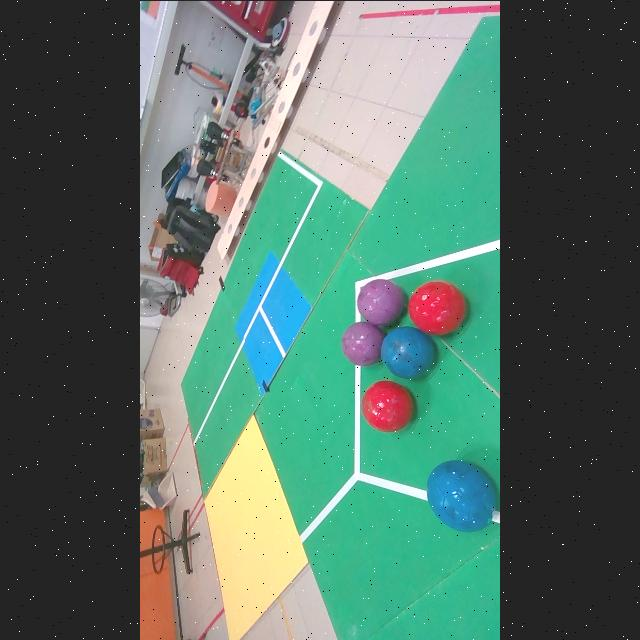B: (428, 459, 496, 531), (381, 325, 434, 378)
P: (357, 278, 405, 324), (343, 321, 385, 365)
R: (408, 280, 466, 334), (362, 379, 414, 431)
